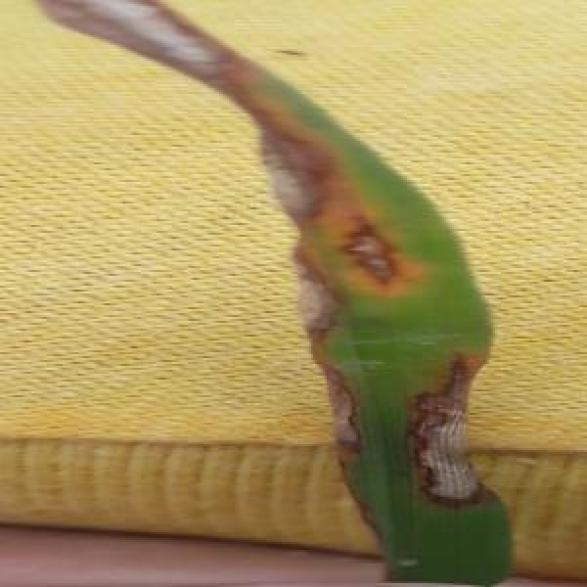Leaf_smut: (391, 348, 493, 552), (88, 0, 245, 88), (286, 344, 389, 474), (225, 104, 329, 221), (333, 200, 442, 296), (276, 235, 352, 338)
